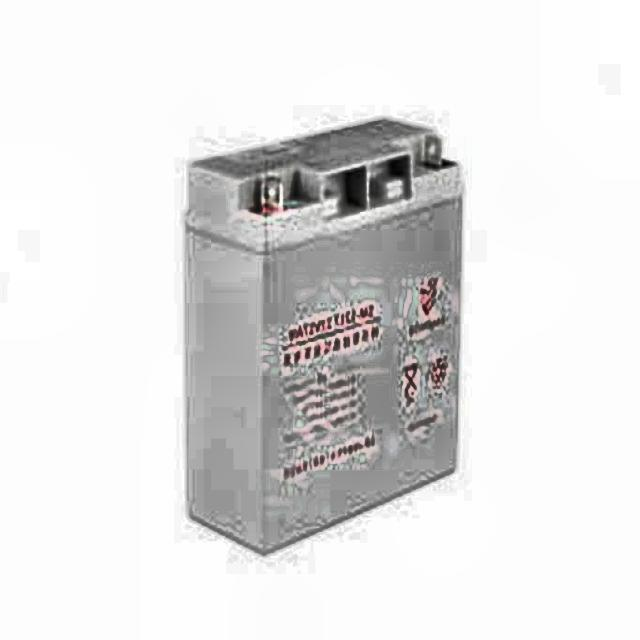Non-Valuable Waste - Batteries: (185, 119, 463, 550)
